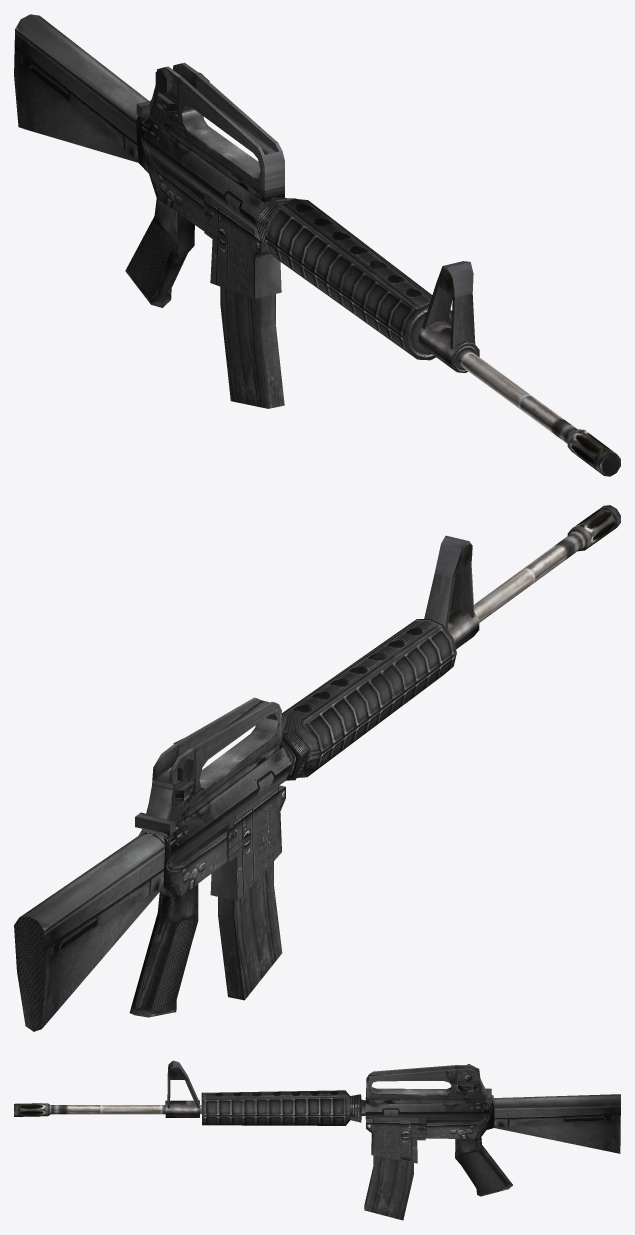
The picture shows the model from 3 angles, top to bottom: view 1: azimuth 30°, elevation 25°; view 2: azimuth 150°, elevation 25°; view 3: azimuth 270°, elevation 25°; orthographic projection. The views are drawn at different scales.
Visible parts, largest first — view 1: _m16_3rd; view 2: _m16_3rd; view 3: _m16_3rd.
Boxes of the visible parts, x1,y1,x2,y2 form: _m16_3rd: (14, 14, 620, 476); _m16_3rd: (14, 505, 620, 1031); _m16_3rd: (14, 1060, 620, 1220).
Size of the model in its own units: 0.0656 by 0.3209 by 1.14.
1 material, 1 textured.
